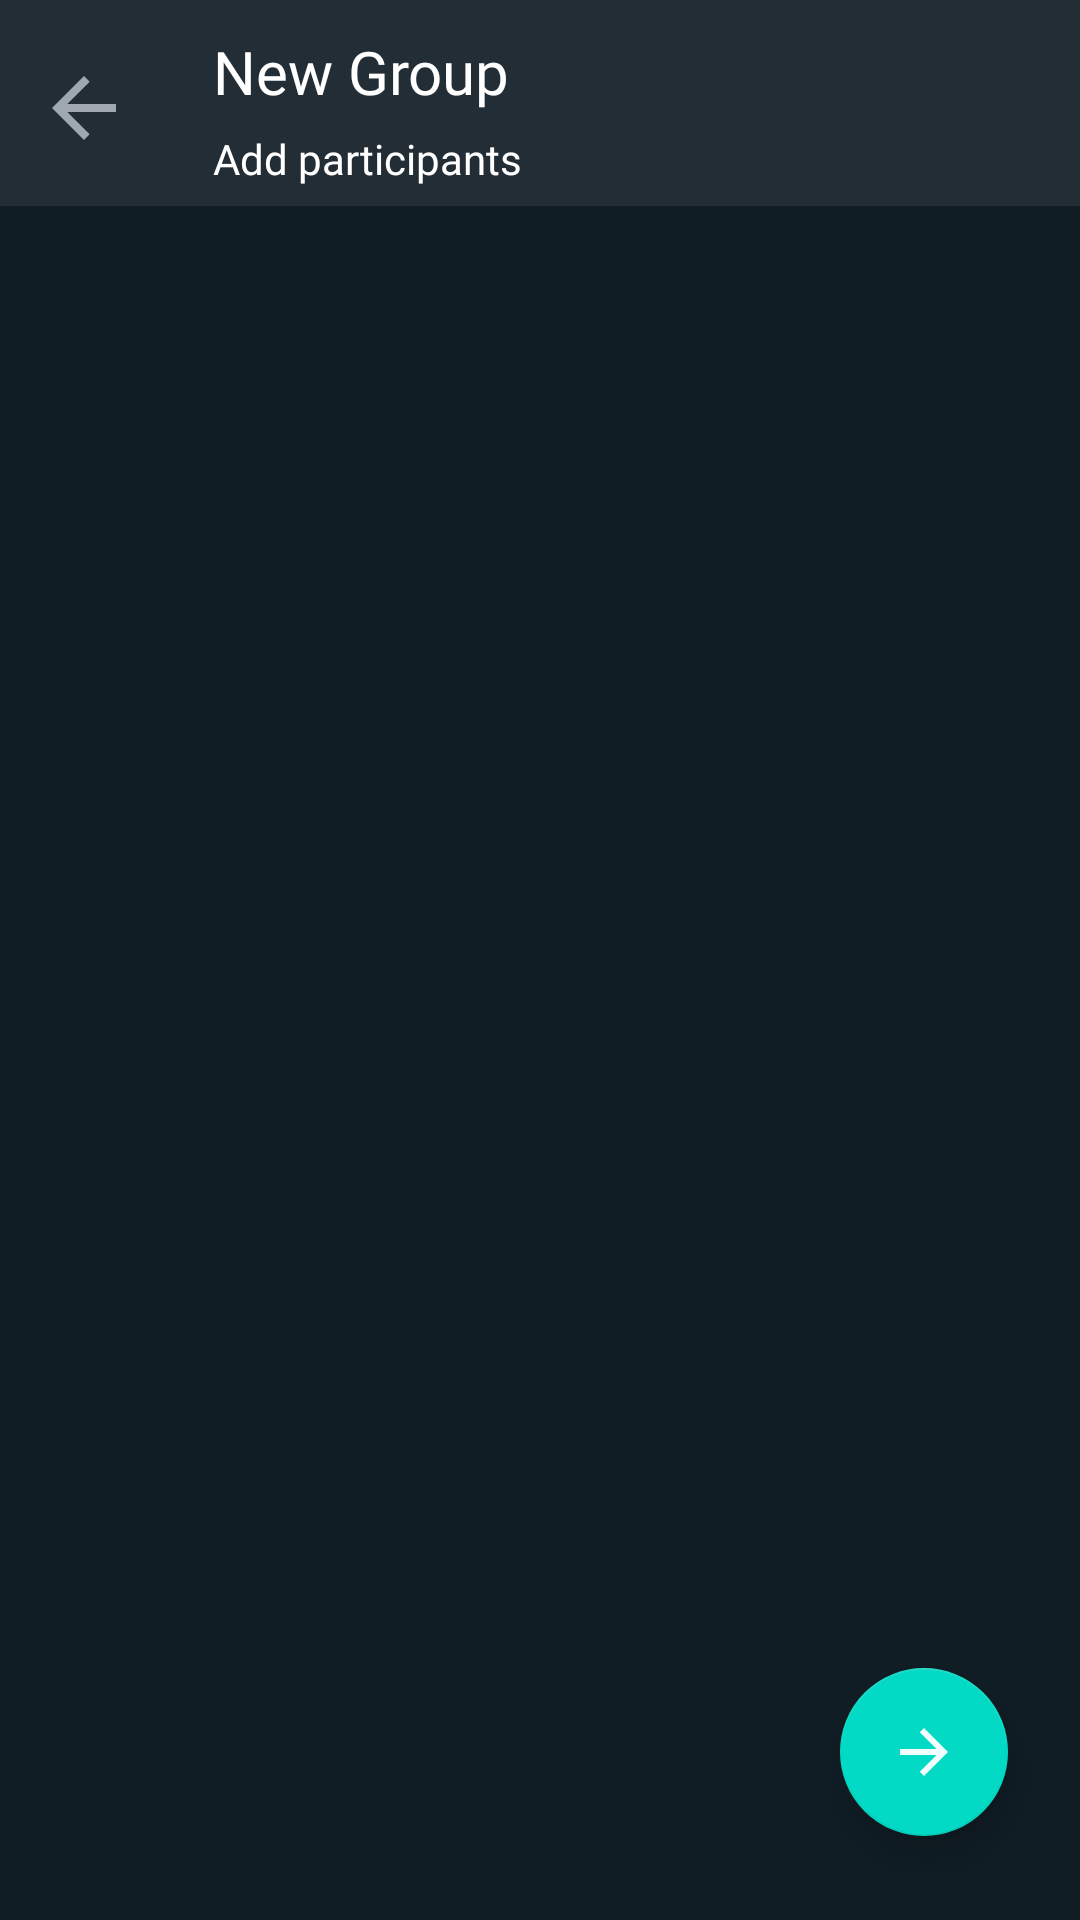

Point at icon controls on the screen. Image size 1080px×1920px, points as (x=x, y=y).
arrow forward: (x=924, y=1752)
back: (x=84, y=108)
